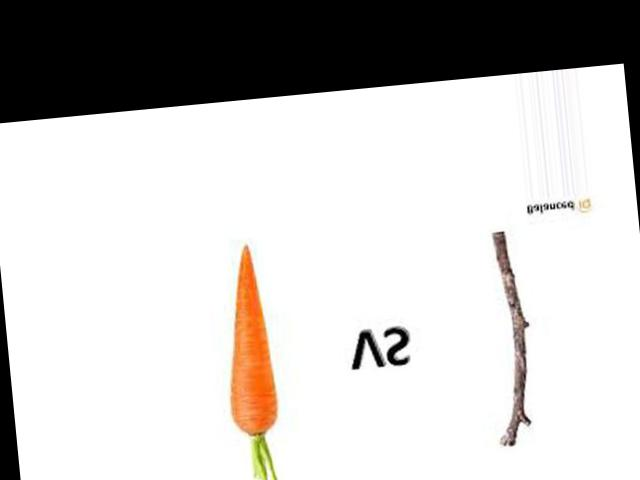carrot: (206, 237, 294, 442)
